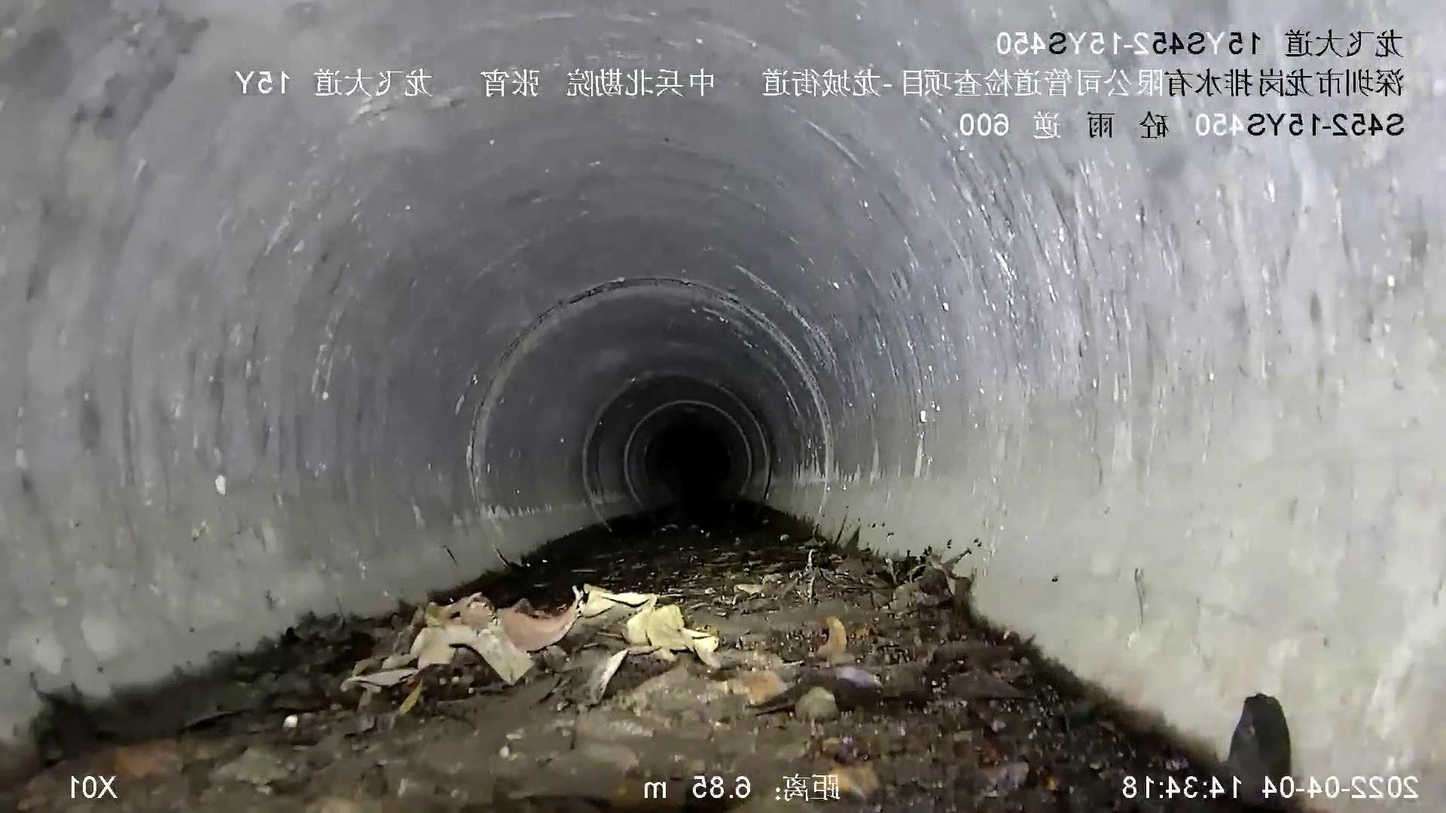CJ: (1, 501, 1298, 812)
CKTJ: (464, 274, 835, 529)
